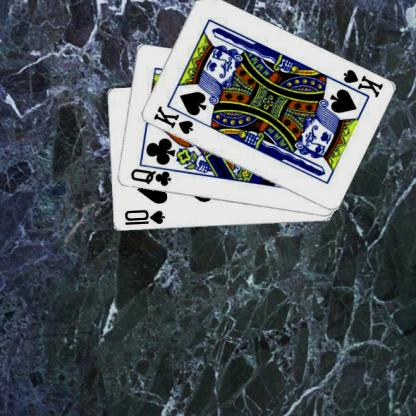10S: (121, 207, 166, 227)
KS: (333, 66, 384, 100), (151, 104, 194, 136)
QC: (128, 166, 172, 188)
